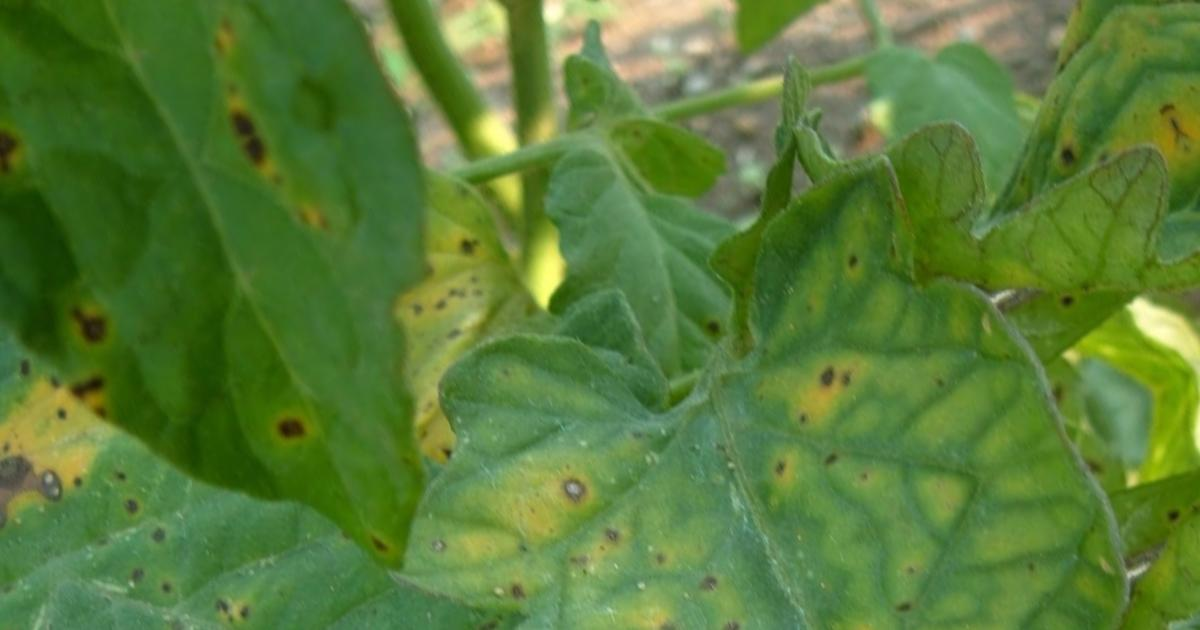Tomato Septoria leaf spot: (309, 119, 1089, 630)
